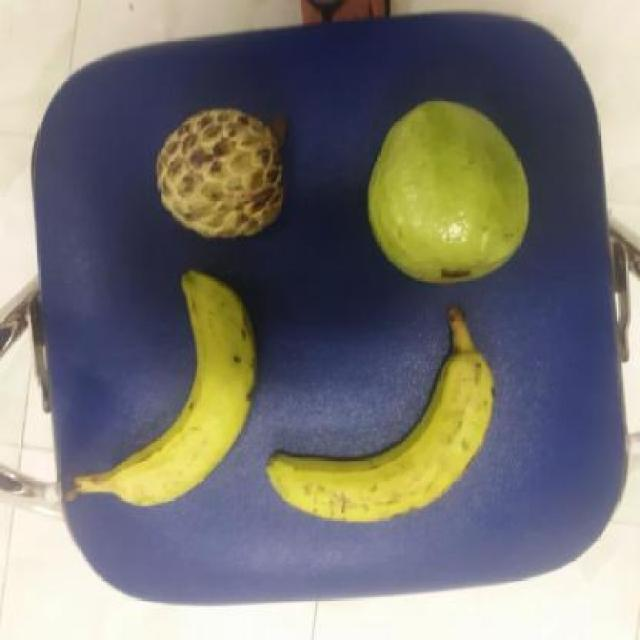banana: (258, 344, 498, 528), (106, 266, 260, 522)
guava: (358, 96, 534, 290)
sugar apple: (152, 105, 286, 242)
